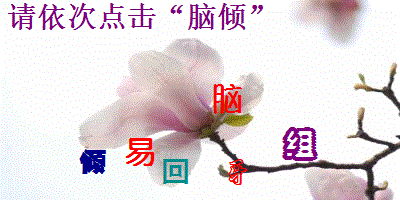result: (186, 1, 248, 32)
text: (279, 125, 320, 163), (209, 80, 244, 116), (123, 135, 157, 168), (78, 147, 109, 175), (161, 156, 190, 185), (226, 157, 247, 186)
